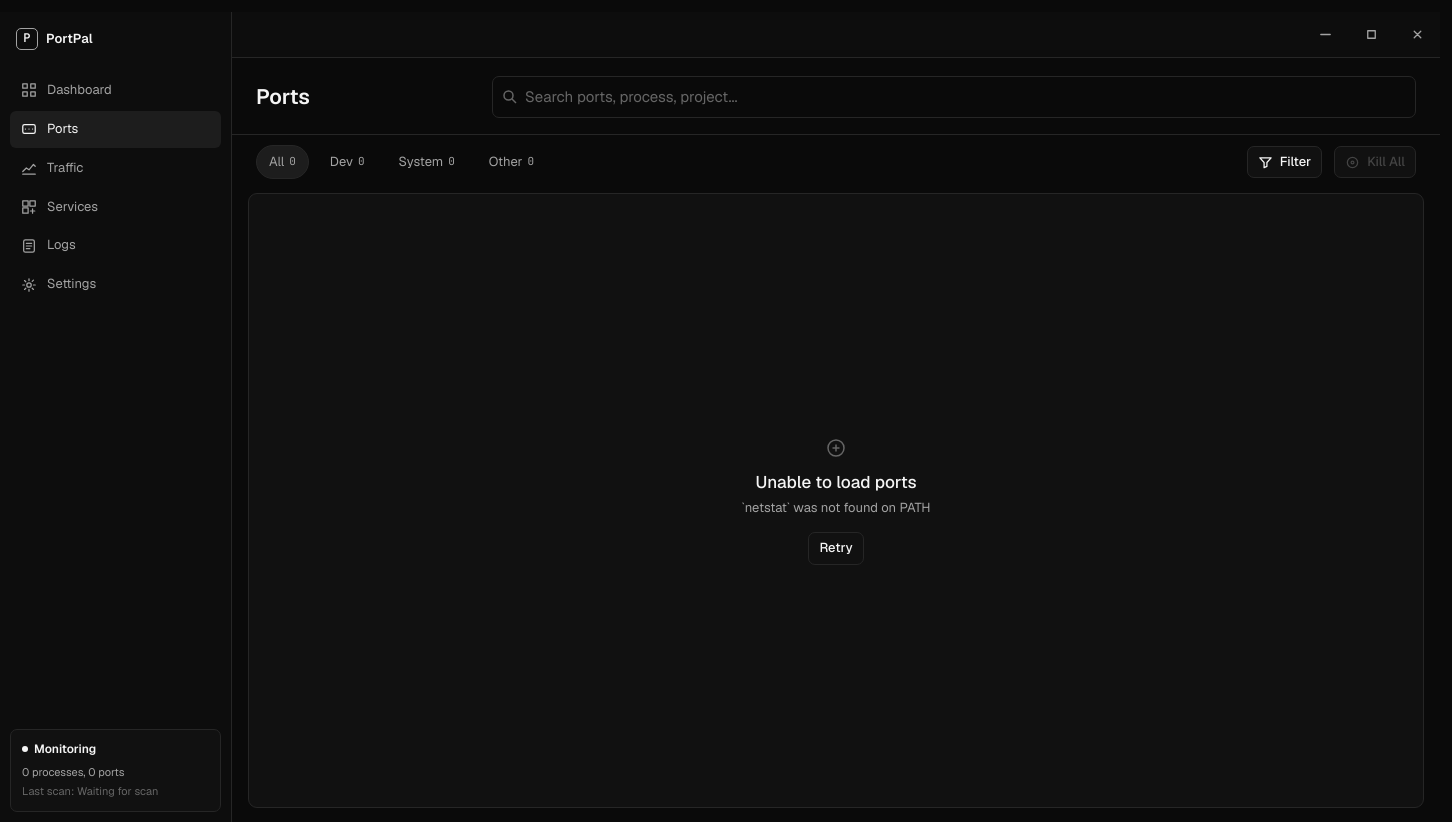
Test: App integration - invoke + ports › surfaces a failed port scan with a working retry instead of an empty list
This screenshot has width=1452, height=822.
Expected: the heading "Unable to load ports" is shown, [755,470,917,495]
Expected: the text "`netstat` was not found on PATH" is shown, [742,499,931,518]
Click the button "Retry".
click(836, 548)  # box [808,532,864,565]
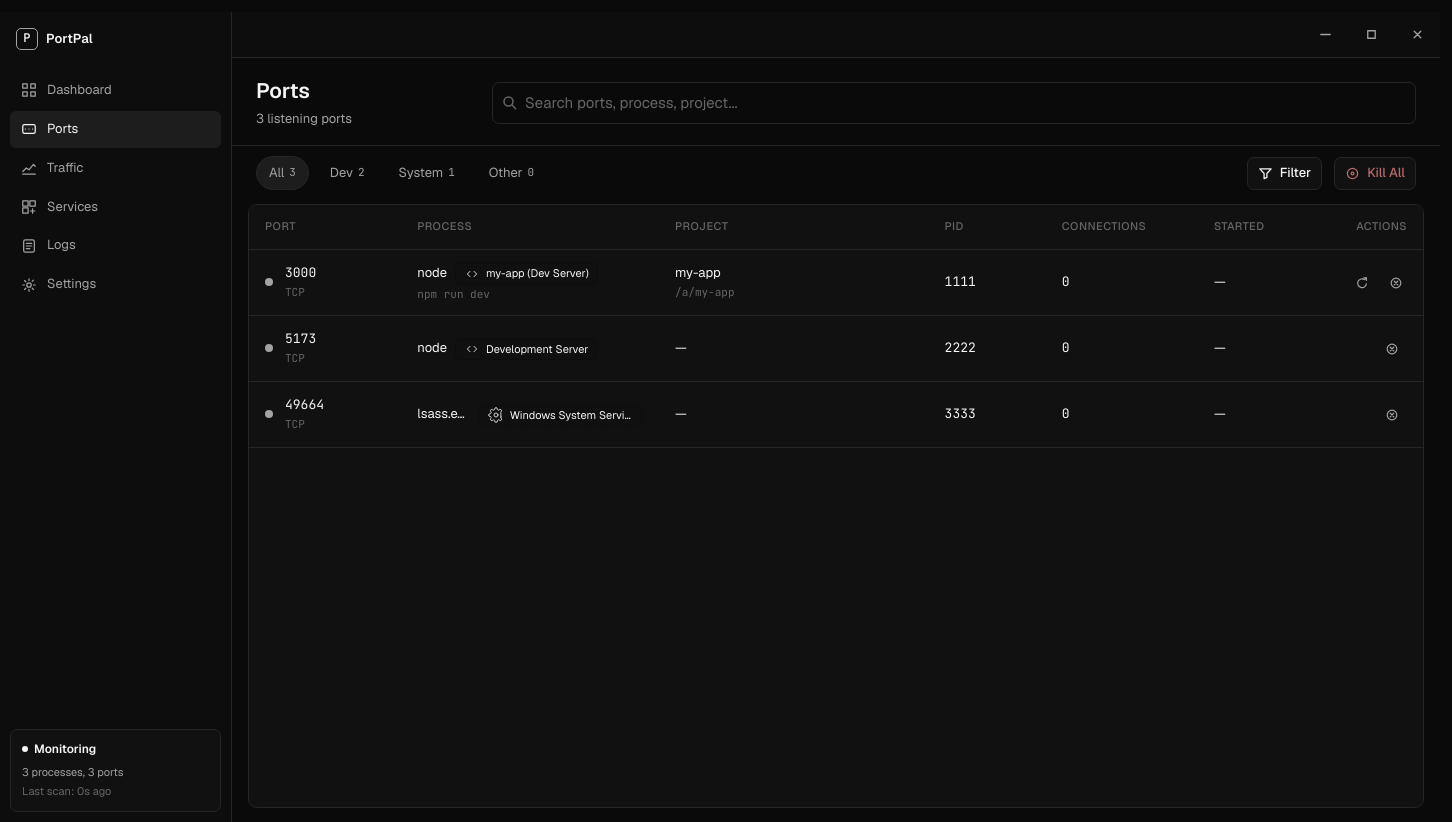
Expected: the text "3000" is shown, [285,264,316,283]
Expected: the heading "Unable to load ports" is gone
